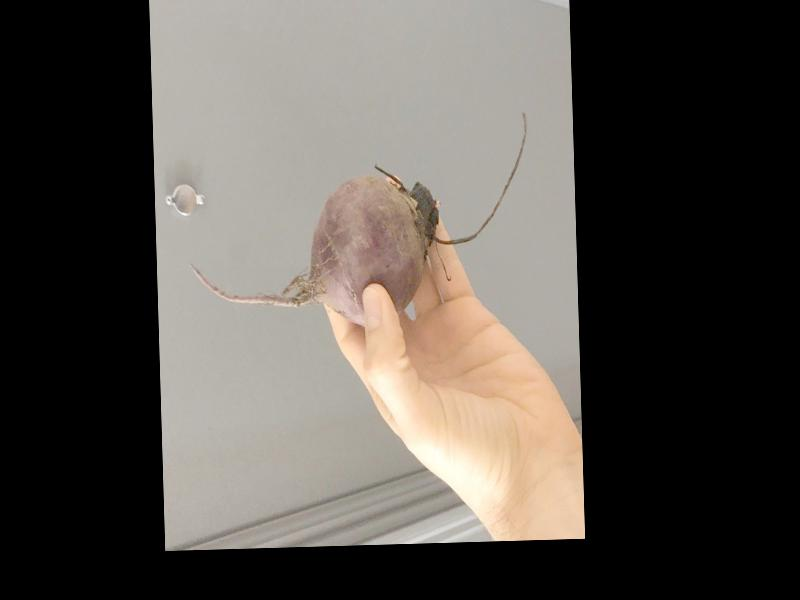Beet: (187, 110, 532, 331)
